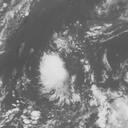cyclone: (40, 51, 76, 103)
